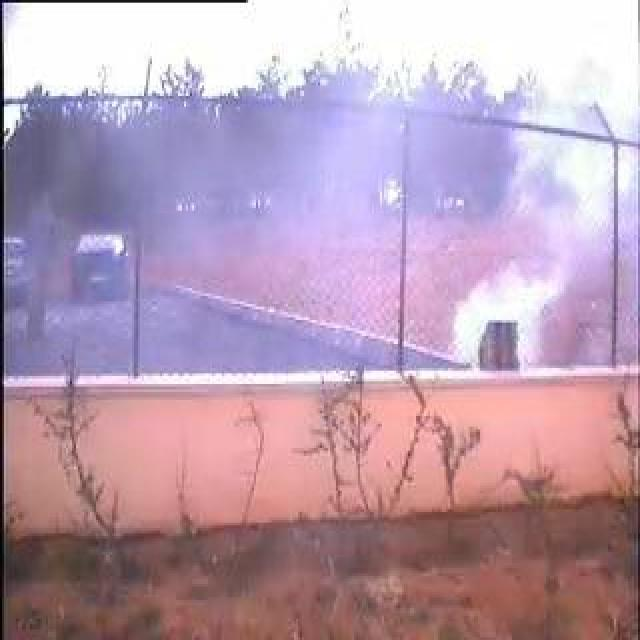Smoke: (445, 100, 603, 367)
